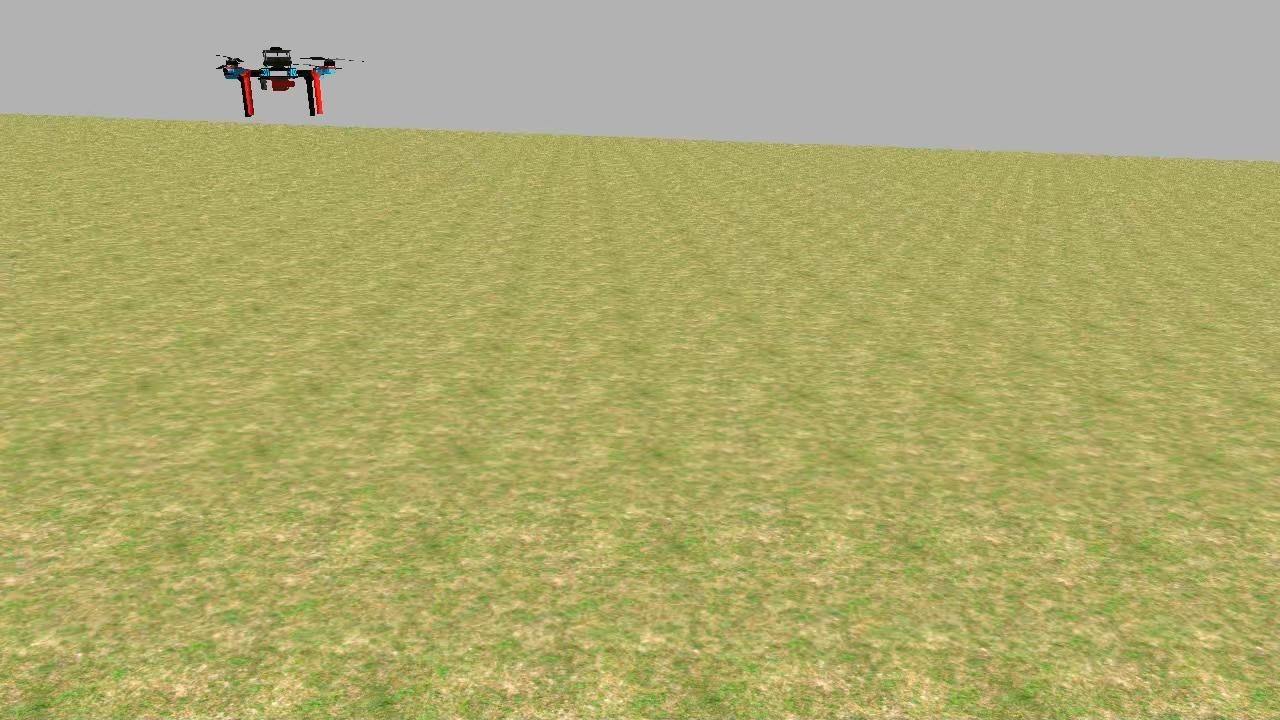UAV: (206, 30, 340, 134)
